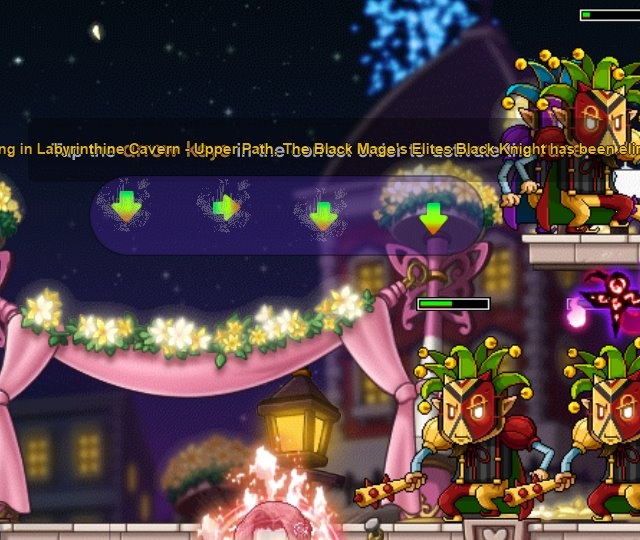rune_box: (79, 169, 493, 266)
